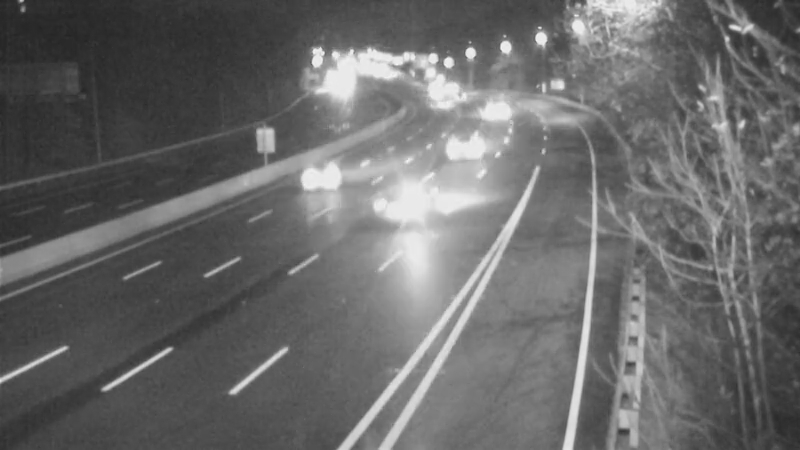vehicle: (285, 144, 365, 224), (373, 157, 453, 237), (414, 81, 464, 131), (467, 81, 517, 131), (436, 118, 486, 168)
